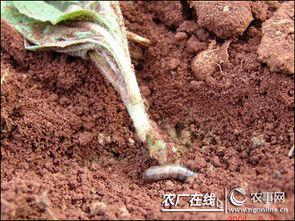grub: (142, 163, 207, 186)
